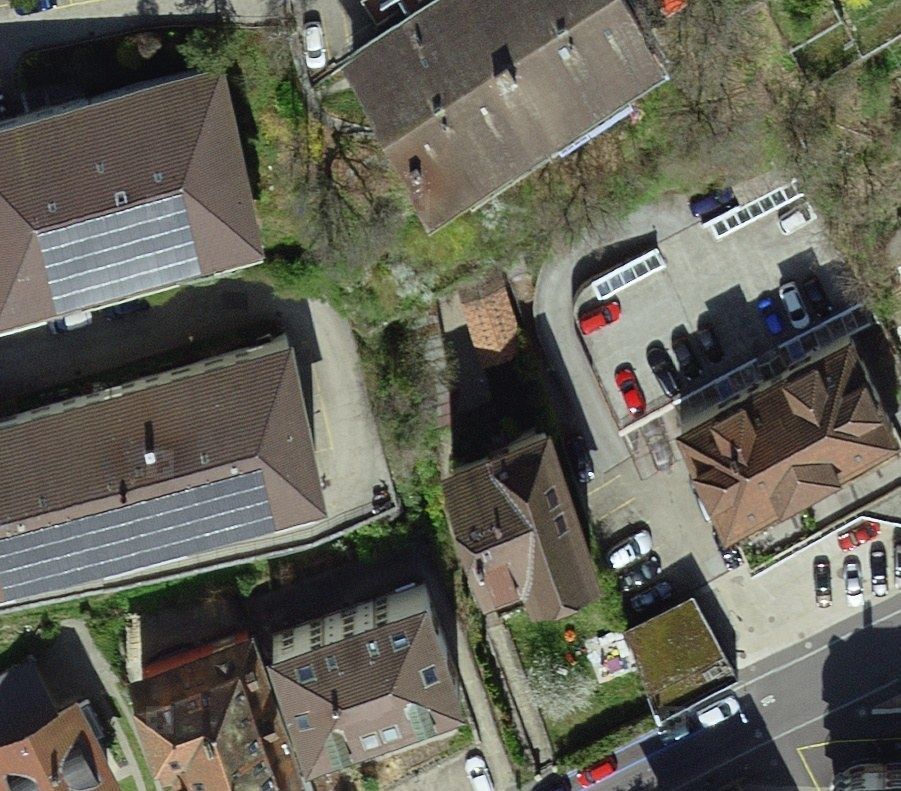solar: (1, 466, 279, 610), (33, 193, 202, 317)
